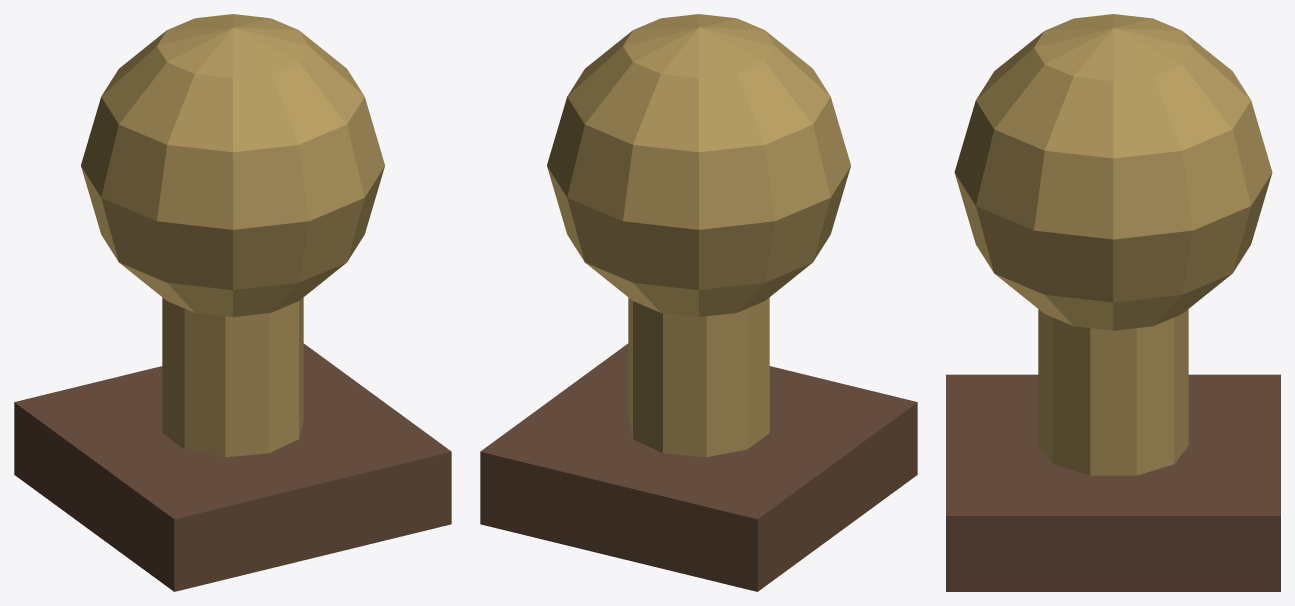
File: roof-ridge-cap.glb
3 views of the same model, side by side, from view 1: azimuth 30°, elevation 25°; view 2: azimuth 150°, elevation 25°; view 3: azimuth 270°, elevation 25° (orthographic). The views are drawn at different scales.
Parts seen in each view (by area): view 1: roof-ridge-cap; view 2: roof-ridge-cap; view 3: roof-ridge-cap.
Boxes of the visible parts, <box> form: roof-ridge-cap: <box>14,14,451,591</box>; roof-ridge-cap: <box>480,14,917,591</box>; roof-ridge-cap: <box>946,14,1280,591</box>.
Bounding box in the file's own units: 0.2 × 0.325 × 0.2.
